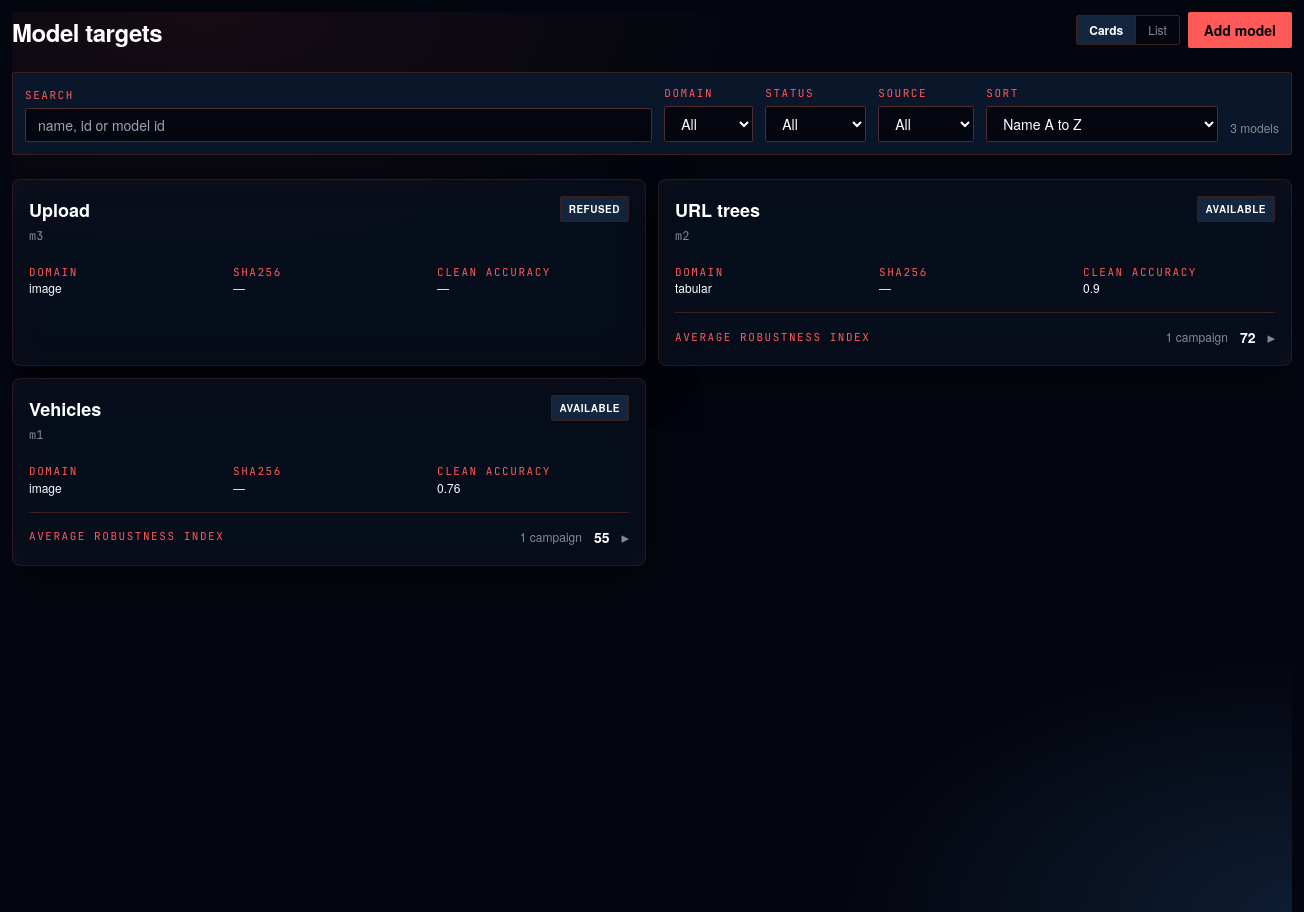
Test: /models › filters the catalog by domain, status and text and reports the count
expect the text with test id "models-count" reads "3 models": met, box [1230, 120, 1279, 136]
expect the button "Clear filters" is not shown: met
Select "tabular" in the dropdown labelled "domain" at (709,124), box [664, 106, 753, 142]
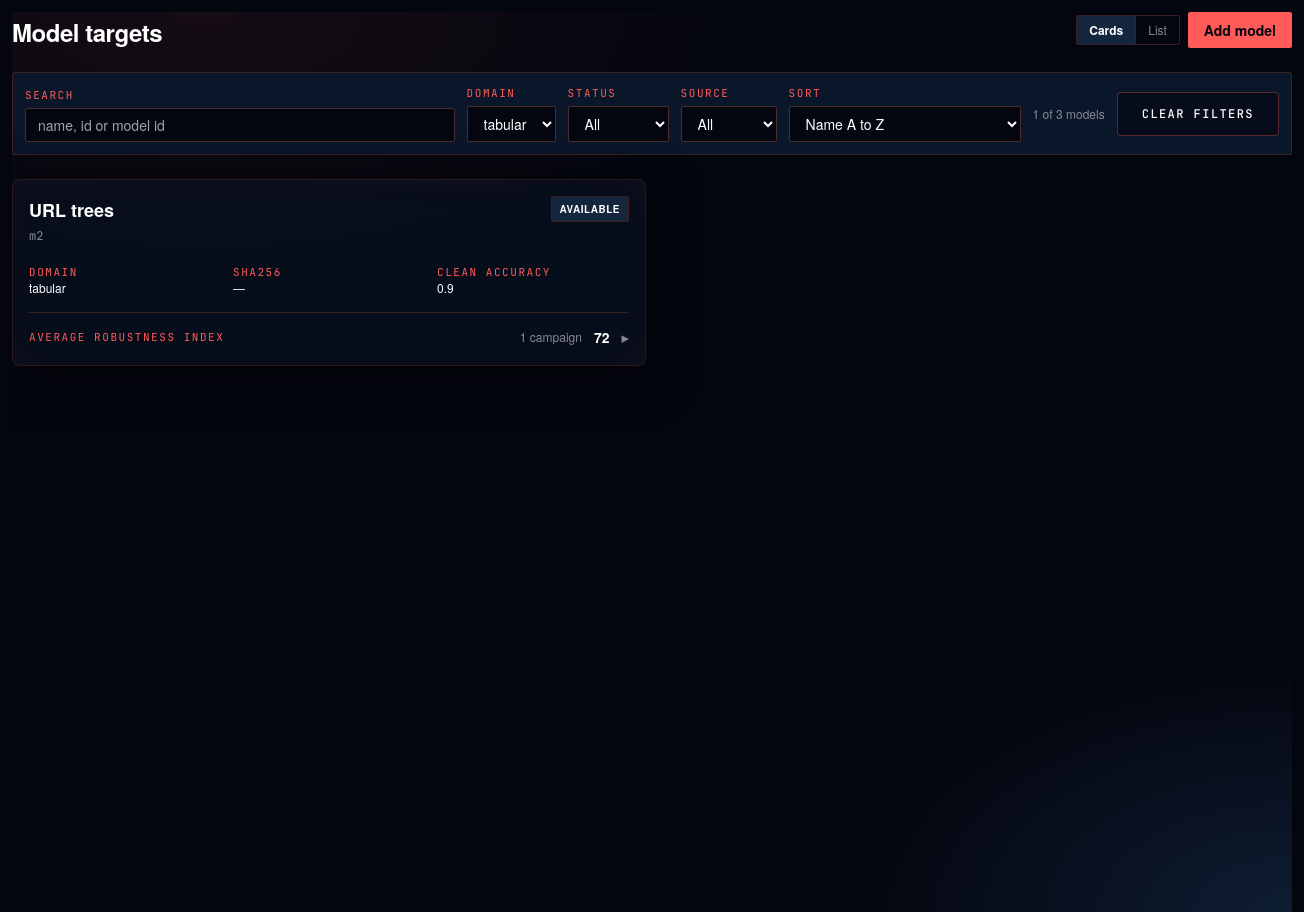
expect the text "URL trees" is shown: met, box [29, 196, 114, 224]
expect the text with test id "models-count" reads "1 of 3 models": met, box [1033, 106, 1105, 122]
Click the button "Clear filters" at (1198,114), box [1117, 92, 1279, 136]
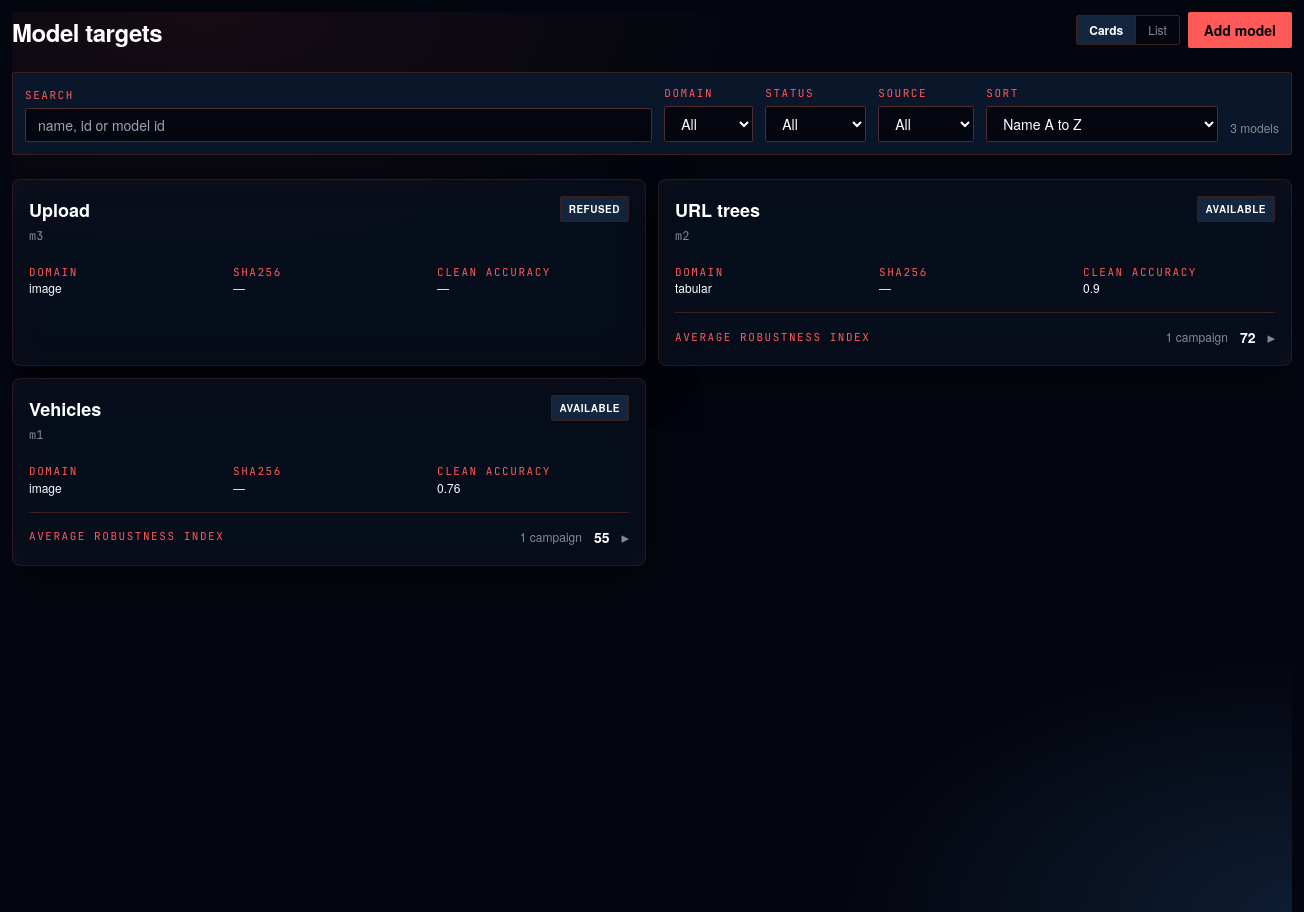
Select "refused" in the dropdown labelled "status" at (816,124), box [765, 106, 866, 142]
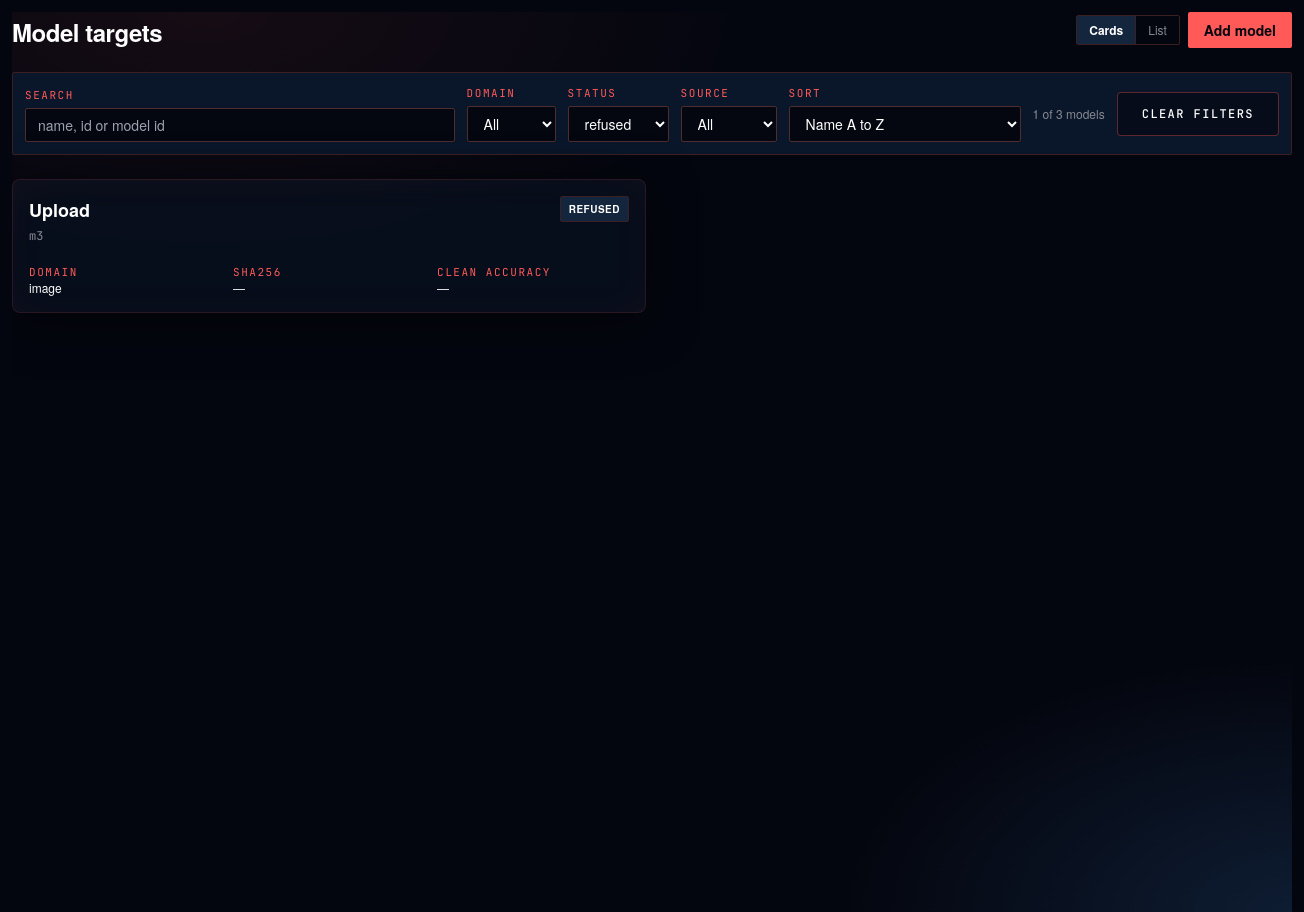
Type "nothing here" into the search field labelled "search" at (240,124), box [25, 108, 455, 142]
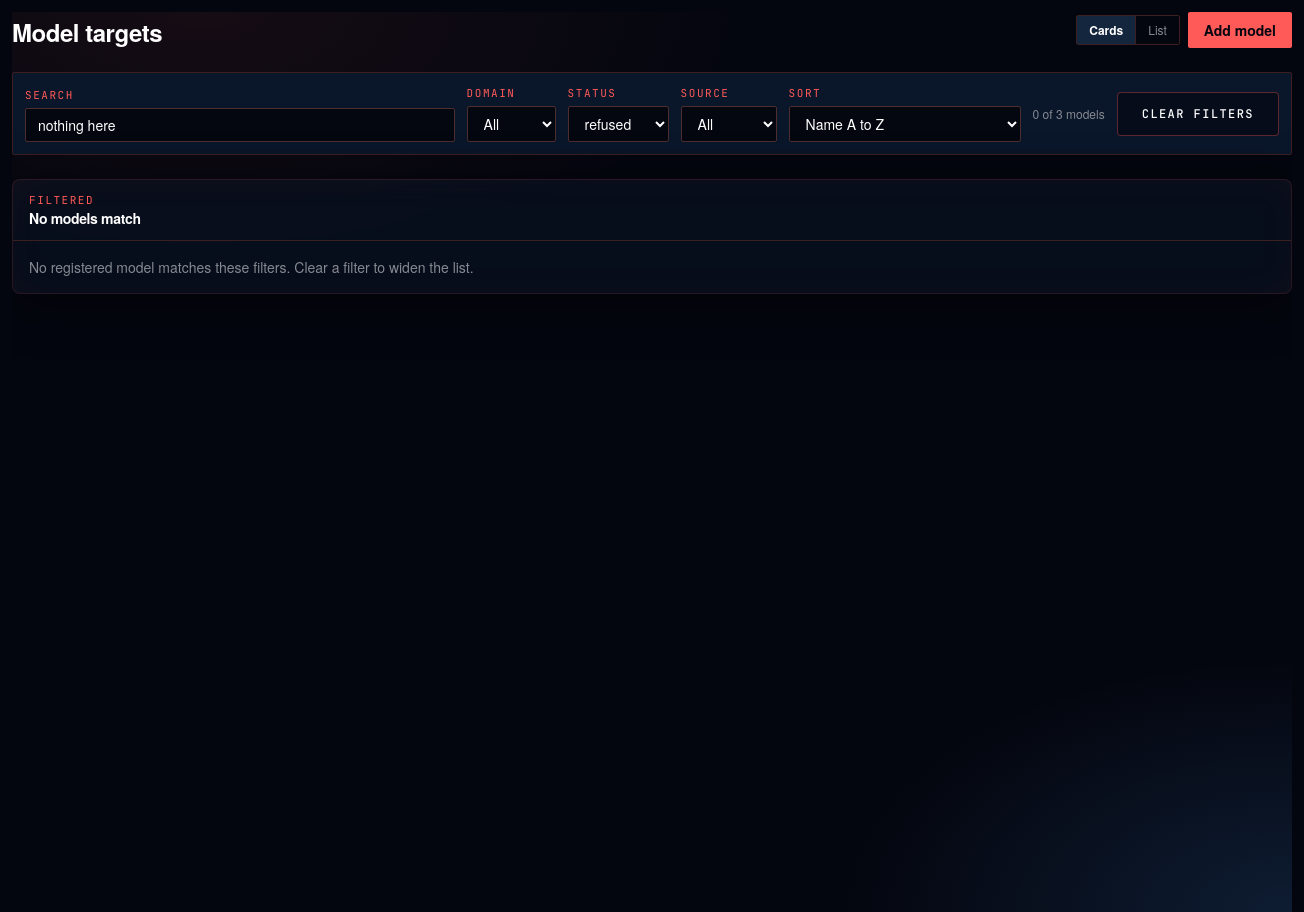
expect the heading "No models match" is shown: met, box [29, 208, 141, 228]
